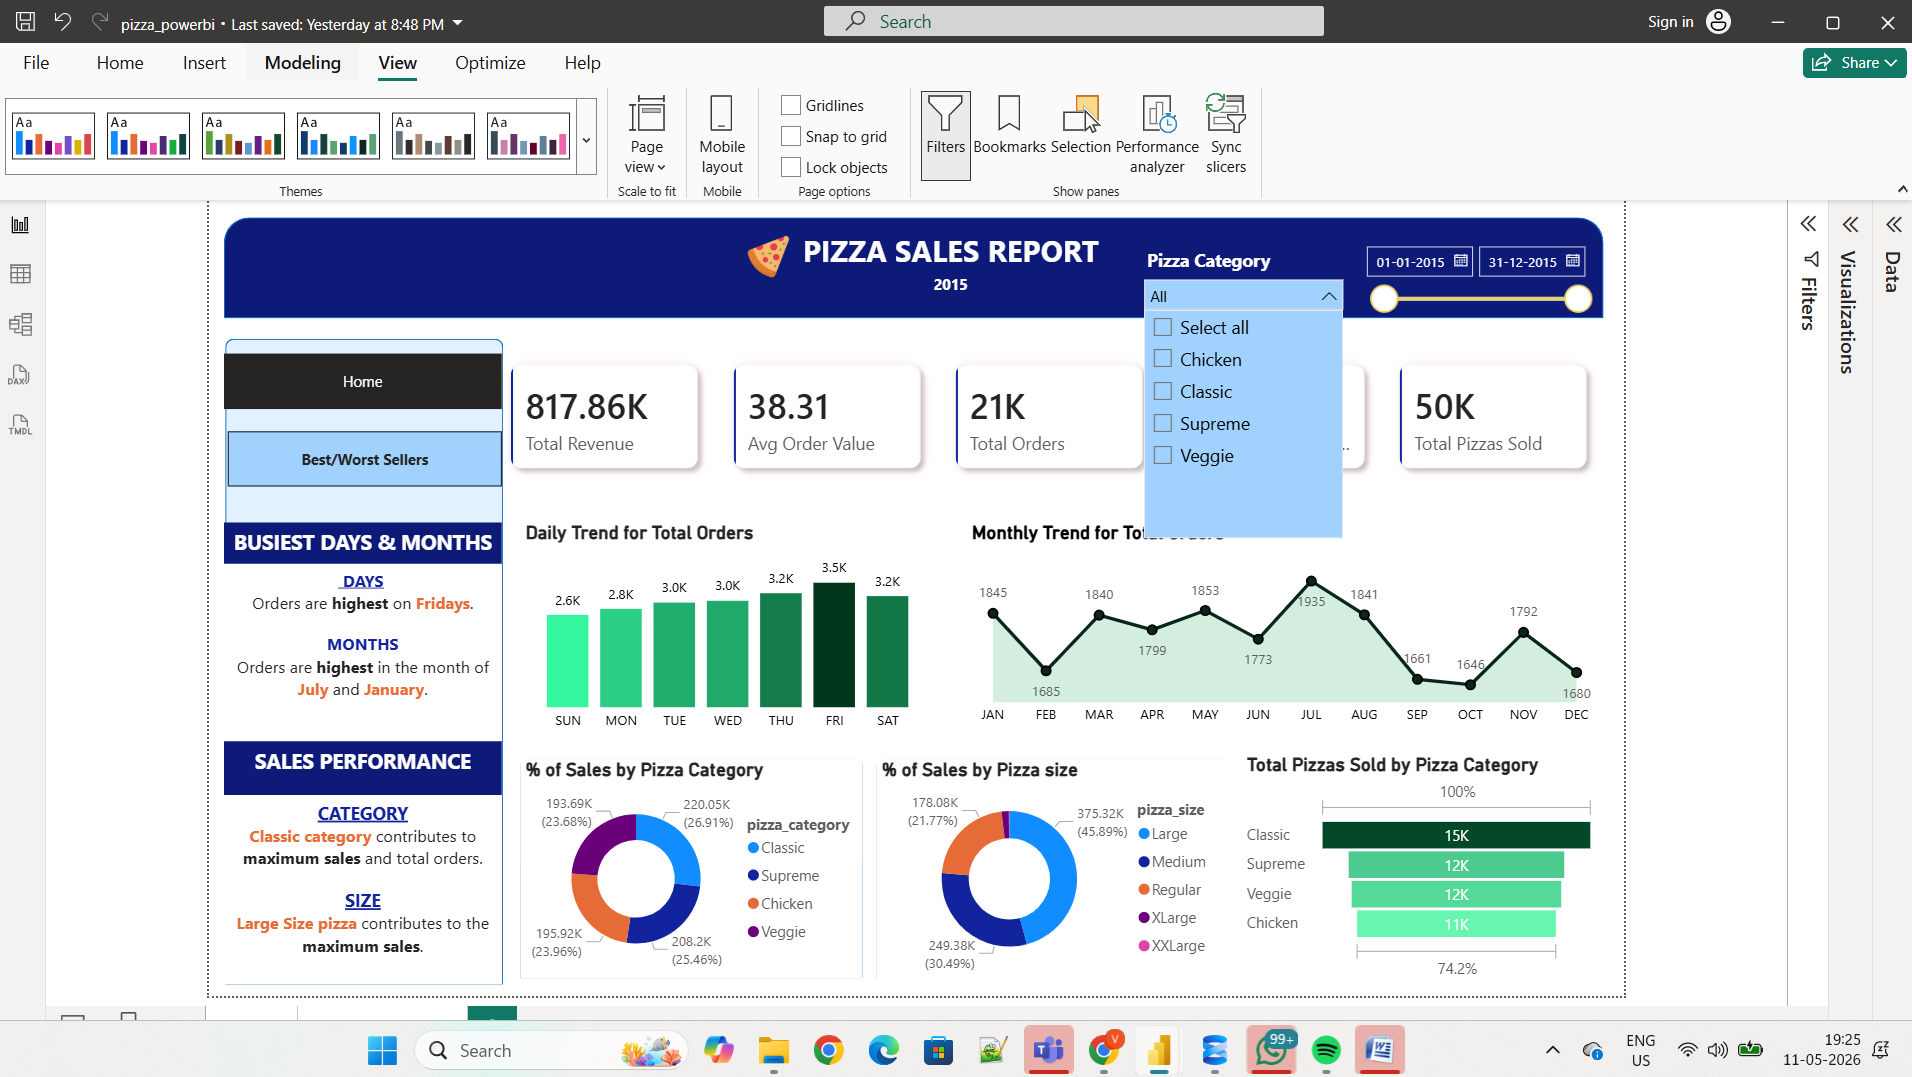

The dashboard page shown, as its layout file describes it:
{"tool":"powerbi","page":{"name":"Home","canvas":[1280,720],"ordinal":0},"visuals":[{"type":"cardVisual","fields":{"Data":["pizza_sales.Total Revenue","pizza_sales.Avg Order Value","pizza_sales.Total Orders","pizza_sales.Average Pizzas Per Order","pizza_sales.Total Pizzas Sold"]},"box":[244.6,119.6,1035.6,152.2],"z":0},{"type":"shape","box":[13.6,16.3,1247.7,91.1],"z":1000},{"type":"textbox","box":[418.6,23.1,505.6,47.6],"z":2000},{"type":"image","box":[470.3,31.3,70.7,39.4],"z":3000},{"type":"textbox","box":[557.2,62.5,227,38.1],"z":4000},{"type":"shape","box":[281.3,271.8,376.5,207.9],"z":5000},{"type":"columnChart","title":"Daily Trend for Total Orders","fields":{"Category":["pizza_sales.Order Day"],"Y":["pizza_sales.Total Orders"]},"box":[281.3,290.8,376.5,198.4],"z":6000},{"type":"shape","box":[680.9,271.8,580.3,207.9],"z":7000},{"type":"areaChart","title":"Monthly Trend for Total Orders","fields":{"Category":["pizza_sales.Order Month"],"Y":["pizza_sales.Total Orders"]},"box":[685,290.8,576.3,193],"z":8000},{"type":"shape","box":[281.3,505.6,309.9,198.4],"z":9000},{"type":"shape","box":[603.4,505.6,320.7,198.4],"z":10000},{"type":"shape","box":[933.7,505.6,327.5,198.4],"z":11000},{"type":"donutChart","title":"% of Sales by Pizza Category","fields":{"Category":["pizza_sales.pizza_category"],"Y":["pizza_sales.Total Revenue"]},"box":[281.3,505.6,309.9,198.4],"z":12000},{"type":"donutChart","title":"% of Sales by Pizza size","fields":{"Category":["pizza_sales.pizza_size"],"Y":["pizza_sales.Total Revenue"]},"box":[603.4,505.6,320.7,198.4],"z":13000},{"type":"funnel","title":"Total Pizzas Sold by Pizza Category","fields":{"Category":["pizza_sales.pizza_category"],"Y":["pizza_sales.Total Pizzas Sold"]},"box":[934.3,501.4,325.7,208.6],"z":14000},{"type":"shape","box":[14.3,125.7,251.4,584.3],"z":15000},{"type":"textbox","box":[13.8,291.2,251.2,37.5],"z":16000},{"type":"textbox","box":[13.8,328.8,251.2,161.2],"z":17000},{"type":"textbox","box":[13.8,490,251.2,48.8],"z":18000},{"type":"textbox","box":[13.8,538.8,251.2,171.2],"z":19000},{"type":"slicer","fields":{"Values":["pizza_sales.pizza_category"]},"box":[835,38.3,200,106.7],"z":20000},{"type":"slicer","fields":{"Values":["pizza_sales.order_date"]},"box":[1035,31.7,225,106.7],"z":21000},{"type":"pageNavigator","box":[13.3,138.9,251.1,50],"z":21001},{"type":"pageNavigator","box":[16.7,208.9,248.9,50],"z":21002}]}

Visuals, with their boxes on the page's 1280x720 design canvas (x1, y1, x2, y2). These are canvas units, not pixel positions in the 1912x1077 screenshot, which may show the page scaled, cropped or inside an application window:
cardVisual - pizza_sales.Total Revenue x pizza_sales.Avg Order Value: 245 120 1280 272
shape: 14 16 1261 107
textbox: 419 23 924 71
image: 470 31 541 71
textbox: 557 62 784 101
shape: 281 272 658 480
"Daily Trend for Total Orders" columnChart: 281 291 658 489
shape: 681 272 1261 480
"Monthly Trend for Total Orders" areaChart: 685 291 1261 484
shape: 281 506 591 704
shape: 603 506 924 704
shape: 934 506 1261 704
"% of Sales by Pizza Category" donutChart: 281 506 591 704
"% of Sales by Pizza size" donutChart: 603 506 924 704
"Total Pizzas Sold by Pizza Category" funnel: 934 501 1260 710
shape: 14 126 266 710
textbox: 14 291 265 329
textbox: 14 329 265 490
textbox: 14 490 265 539
textbox: 14 539 265 710
slicer - pizza_sales.pizza_category: 835 38 1035 145
slicer - pizza_sales.order_date: 1035 32 1260 138
pageNavigator: 13 139 264 189
pageNavigator: 17 209 266 259
